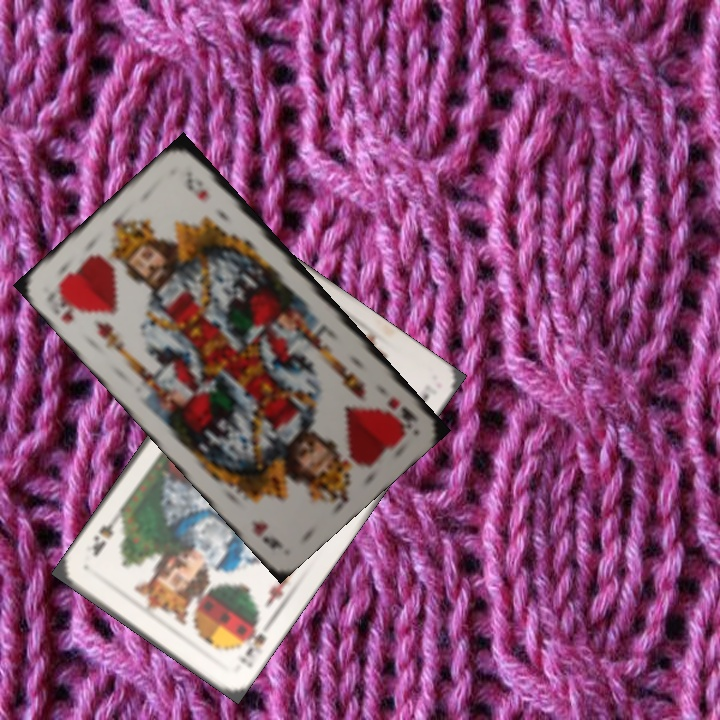HK: (52, 282, 86, 326), (382, 393, 421, 425)
SK: (234, 615, 269, 671)
